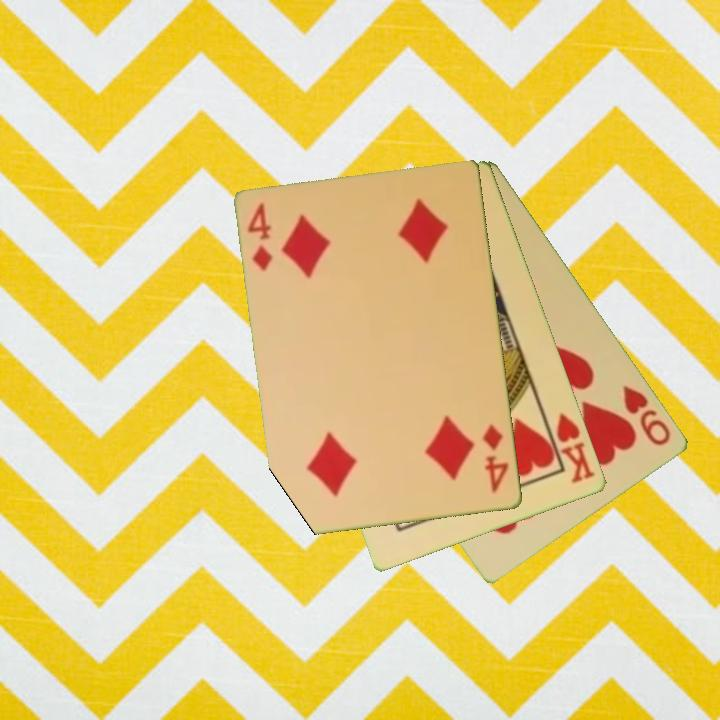4d: (480, 420, 512, 496), (244, 199, 276, 275)
9h: (619, 381, 675, 449)
Kh: (541, 409, 599, 487)
